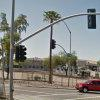Traffic light: (8, 38, 35, 68)
